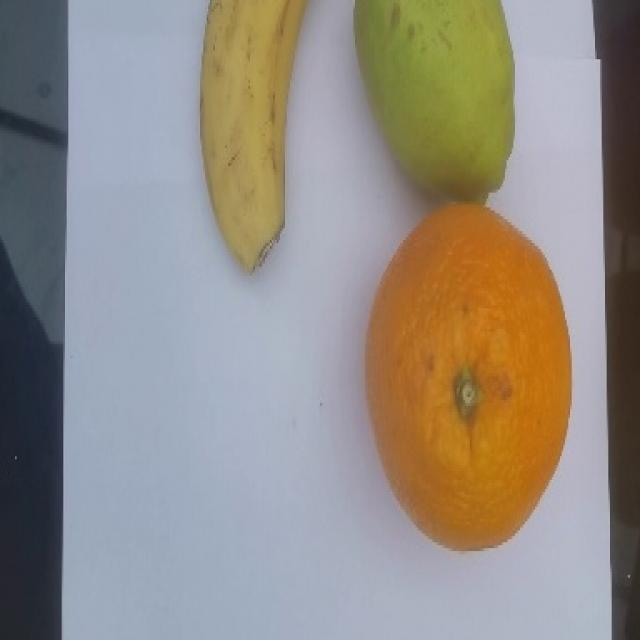Banana: (198, 0, 308, 273)
Orange: (363, 201, 572, 551)
